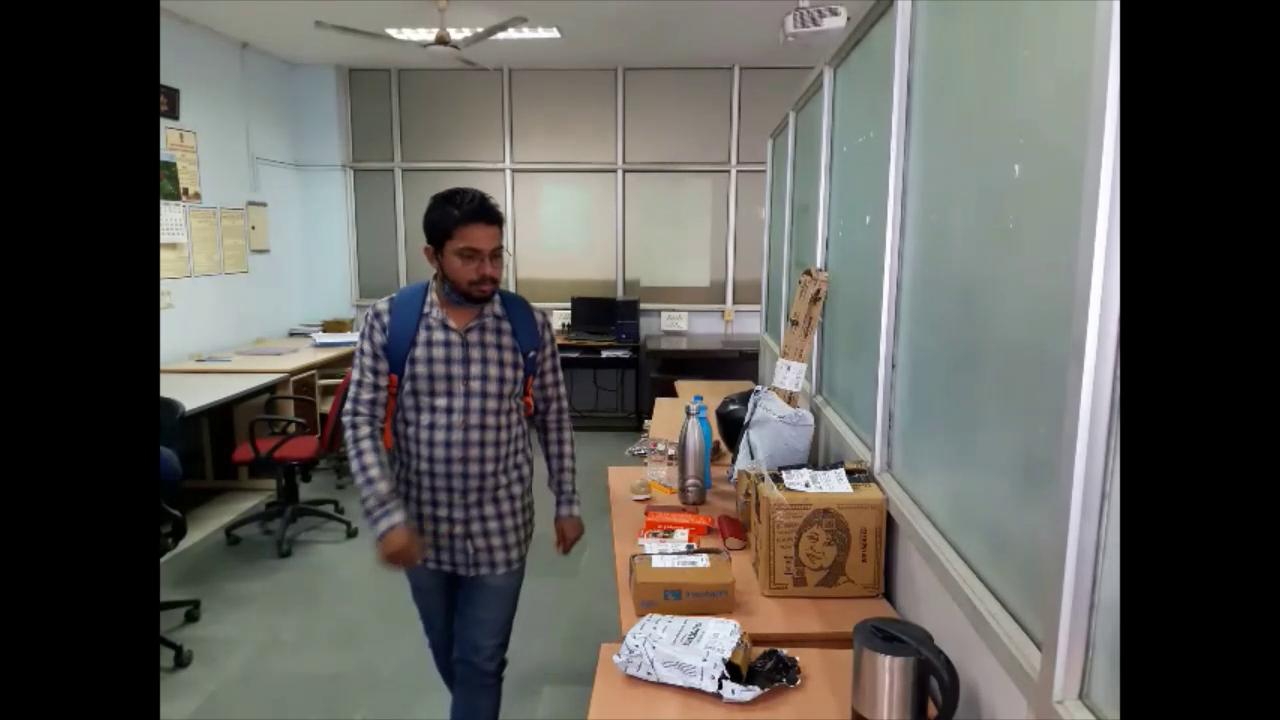Normal: (329, 175, 600, 699)
